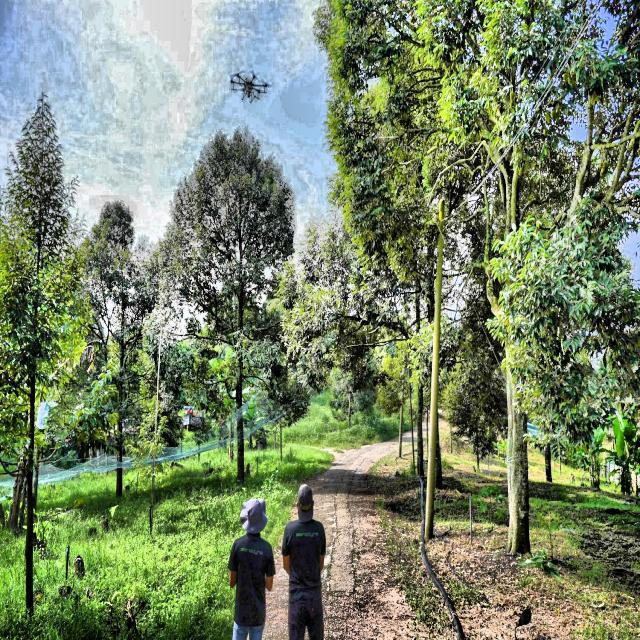arvore: (489, 112, 544, 582), (415, 198, 446, 558), (226, 202, 254, 486), (26, 176, 39, 630), (104, 268, 128, 512)
